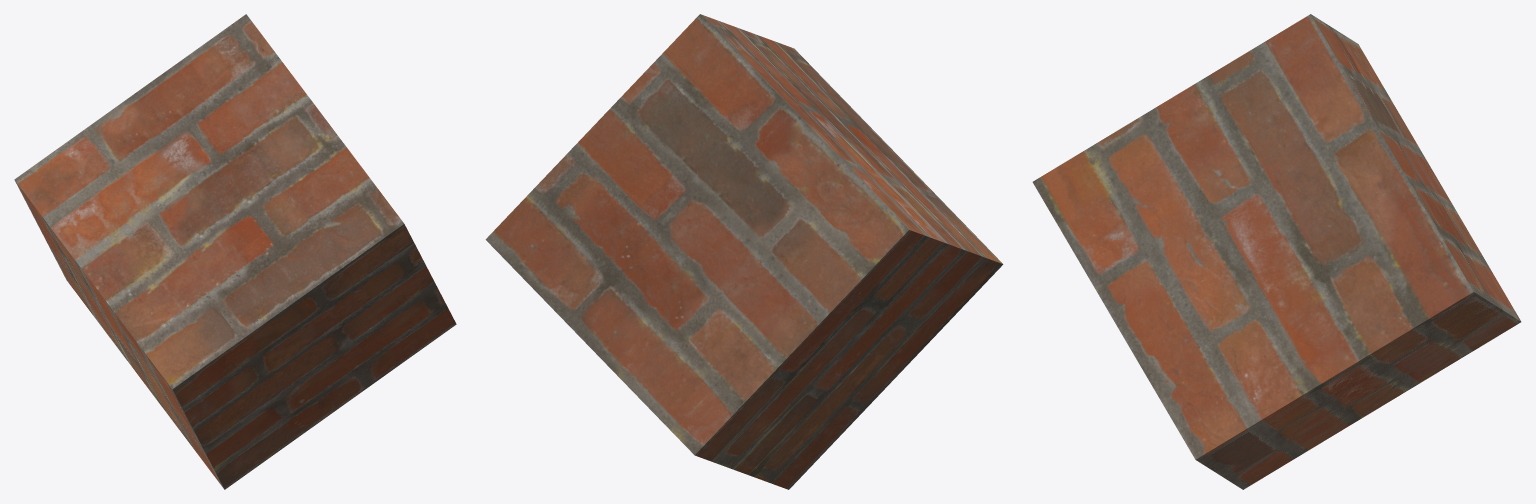
3 renders of one model, left to right at view 1: azimuth 30°, elevation 25°; view 2: azimuth 150°, elevation 25°; view 3: azimuth 270°, elevation 25°, orthographic. The views are drawn at different scales.
Visible parts, largest first — view 1: Cube.001; view 2: Cube.001; view 3: Cube.001.
Boxes of the visible parts, bbox=[...] form: Cube.001: bbox=[14, 14, 456, 489]; Cube.001: bbox=[485, 14, 1003, 489]; Cube.001: bbox=[1032, 14, 1521, 489].
Size of the model in its own units: 3 by 3.41 by 3.
Materials: 1 (1 with a texture image).
